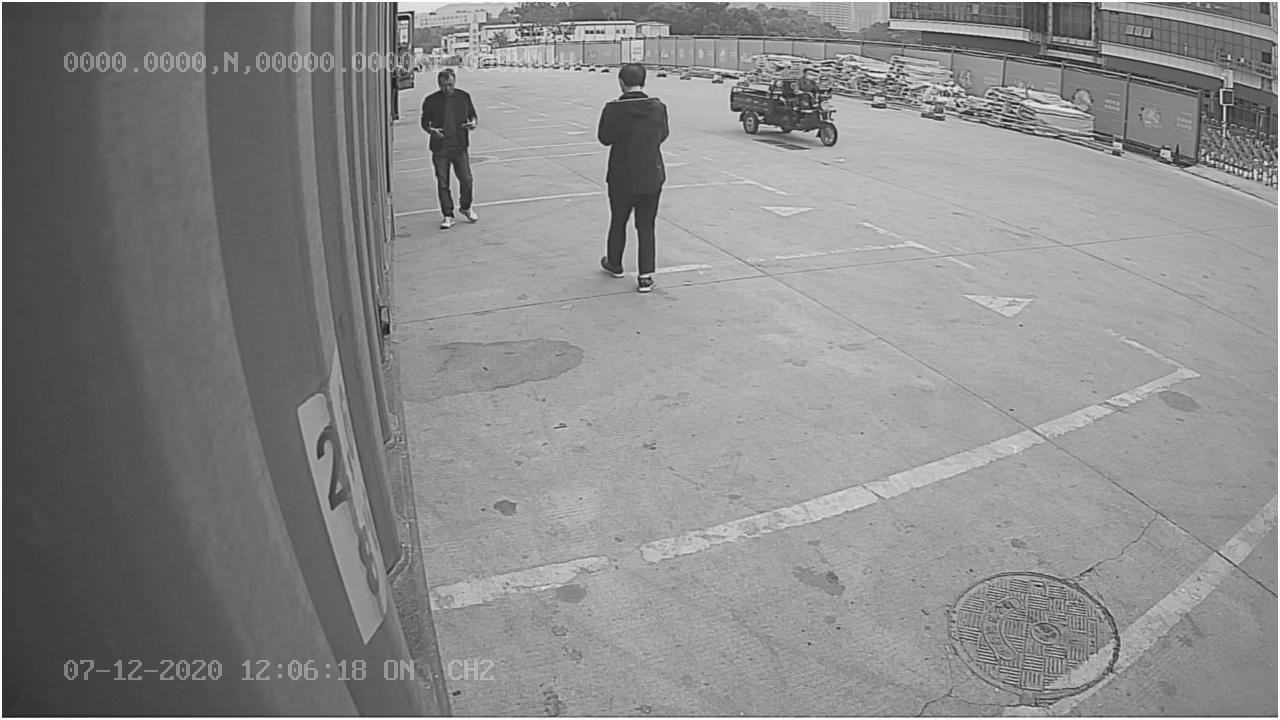person: (593, 60, 672, 295)
